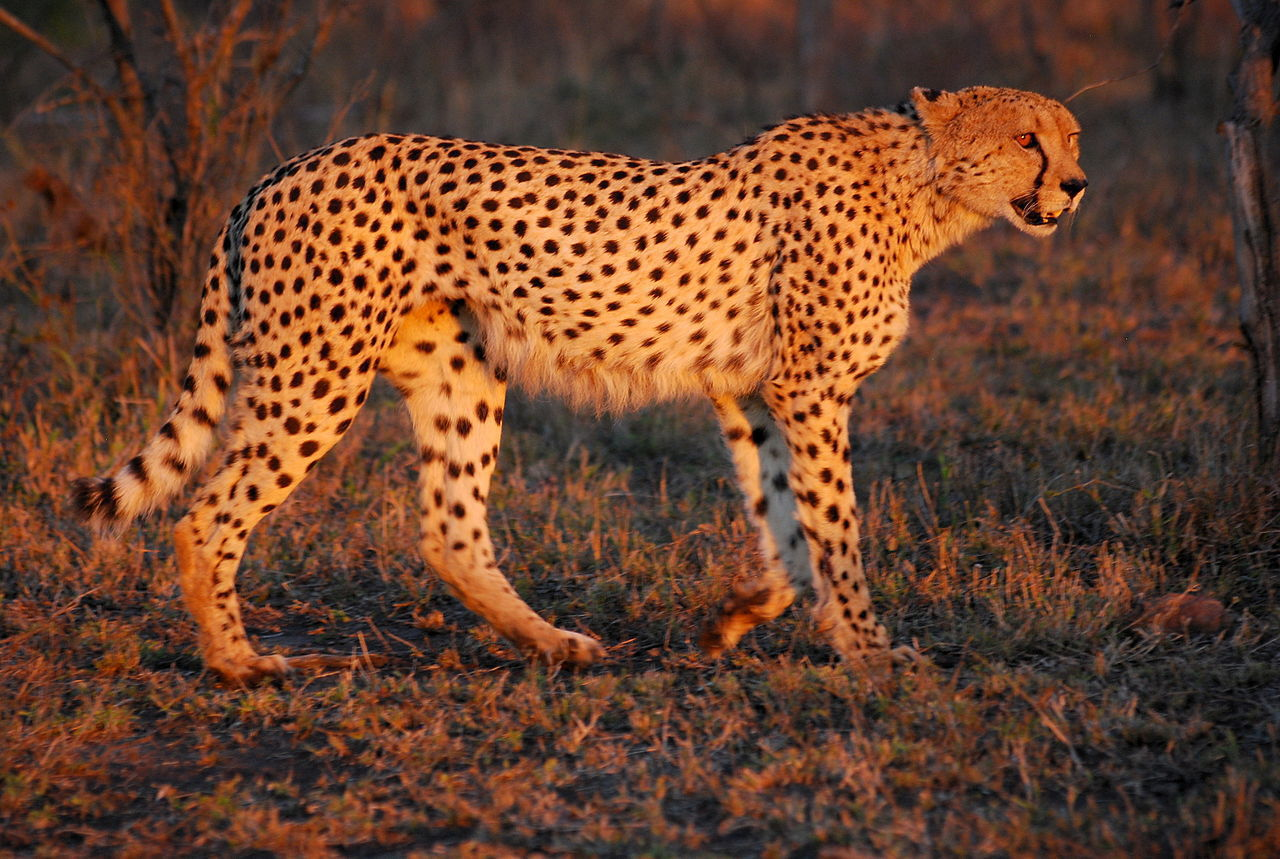cheetah: (891, 61, 1123, 247)
